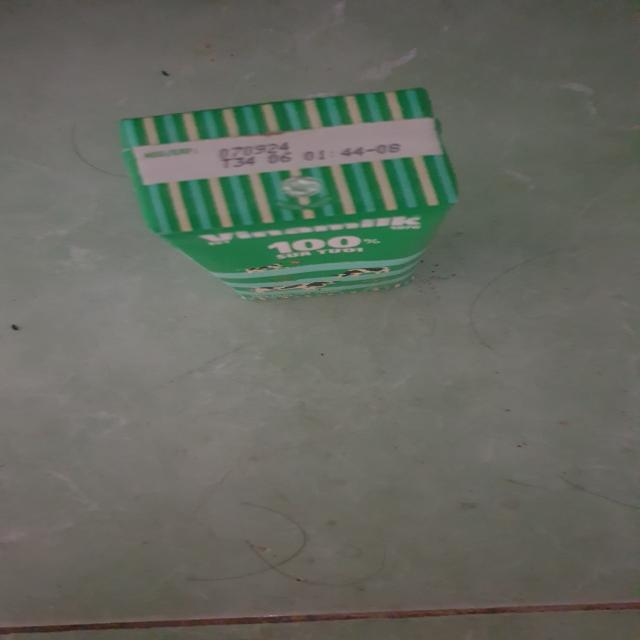Vina: (114, 85, 444, 300)
